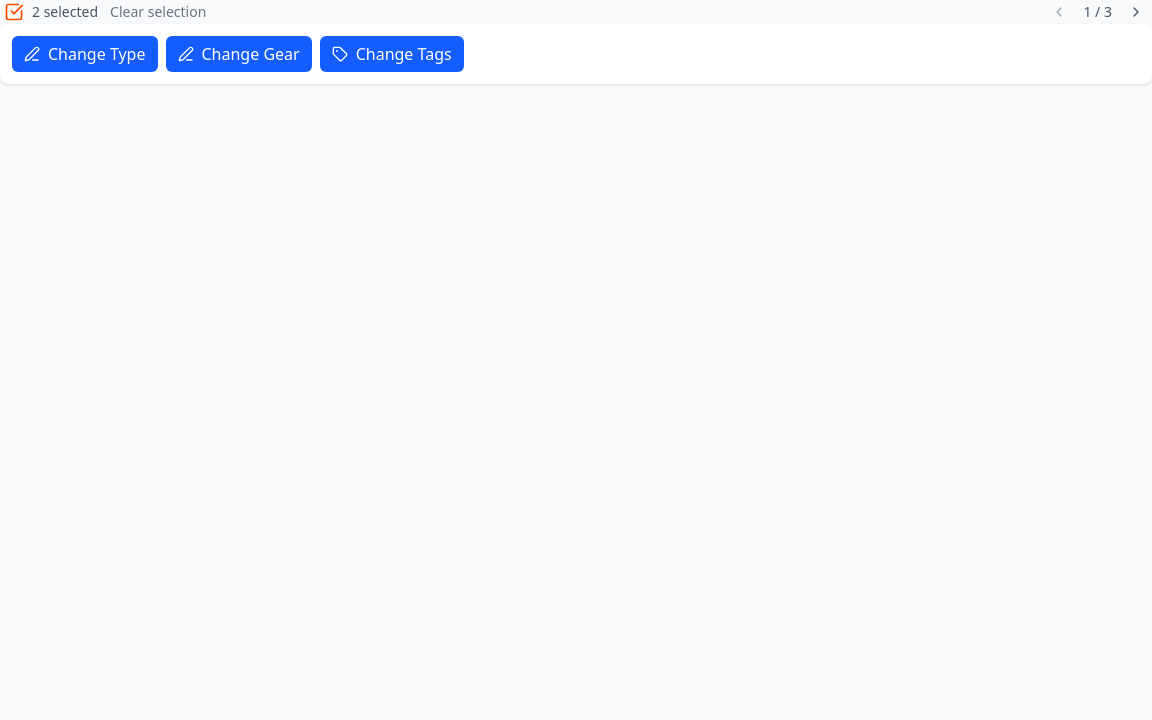
BulkActions › Change Type Modal › opens type modal when Change Type is clicked
Click the button "Change Type".
click(85, 54)  # box [12,36,158,72]
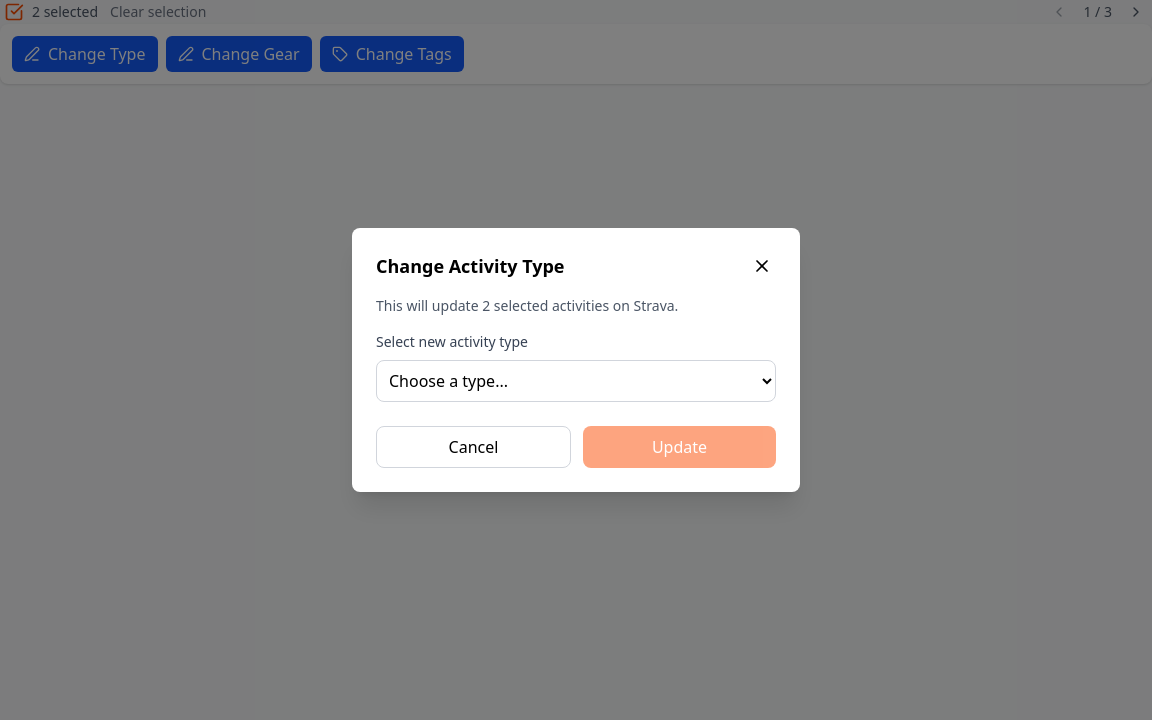
Expected: the heading "Change Activity Type" is shown, [376,252,564,280]
